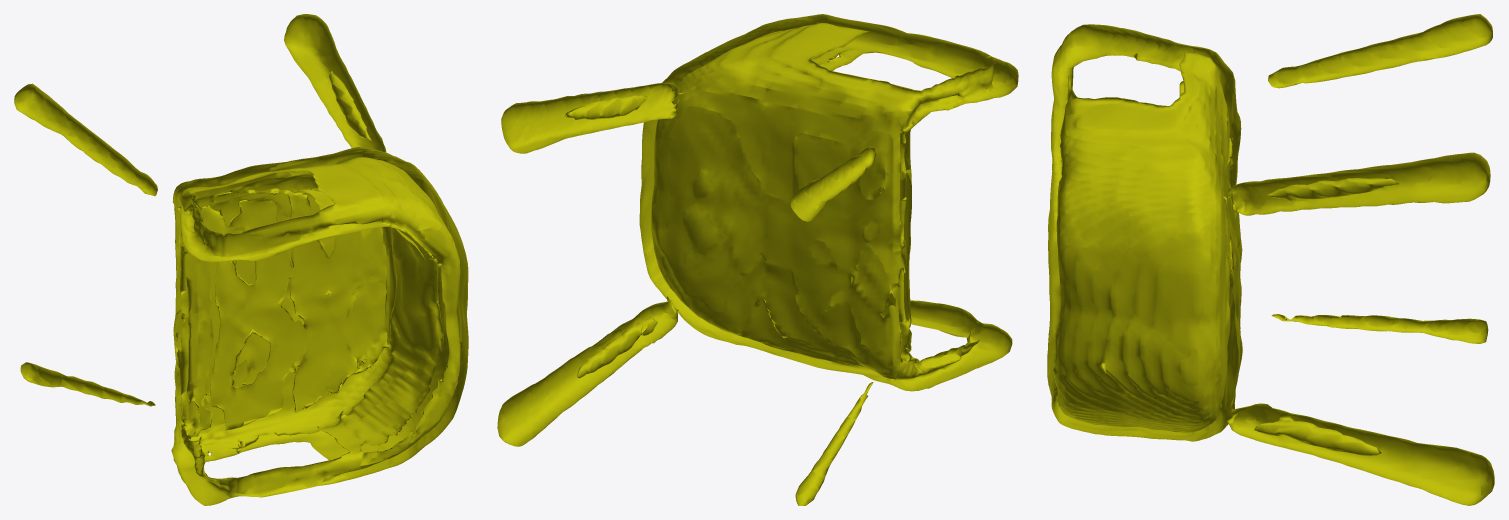
3 renders of one model, left to right at view 1: azimuth 30°, elevation 25°; view 2: azimuth 150°, elevation 25°; view 3: azimuth 270°, elevation 25°, orthographic. The views are drawn at different scales.
Visible parts, largest first — view 1: world; view 2: world; view 3: world.
Boxes of the visible parts, box(x1,y1,x2,y2) form: world: box(14, 14, 468, 505); world: box(497, 14, 1018, 505); world: box(1047, 14, 1494, 505).
Size of the model in its own units: 68.05 by 66.64 by 77.73.
